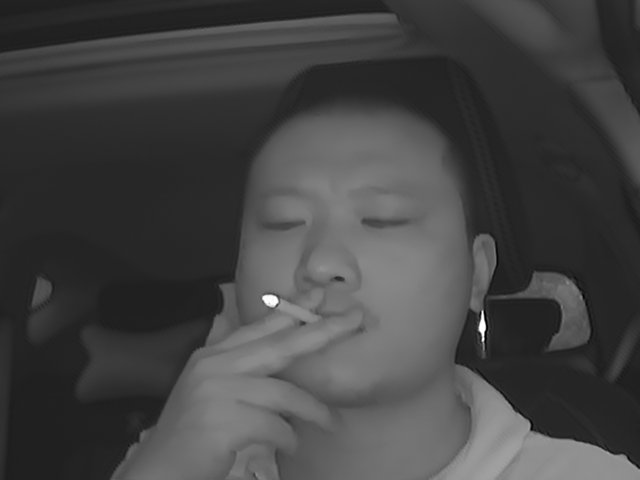hand: (219, 289, 366, 453)
